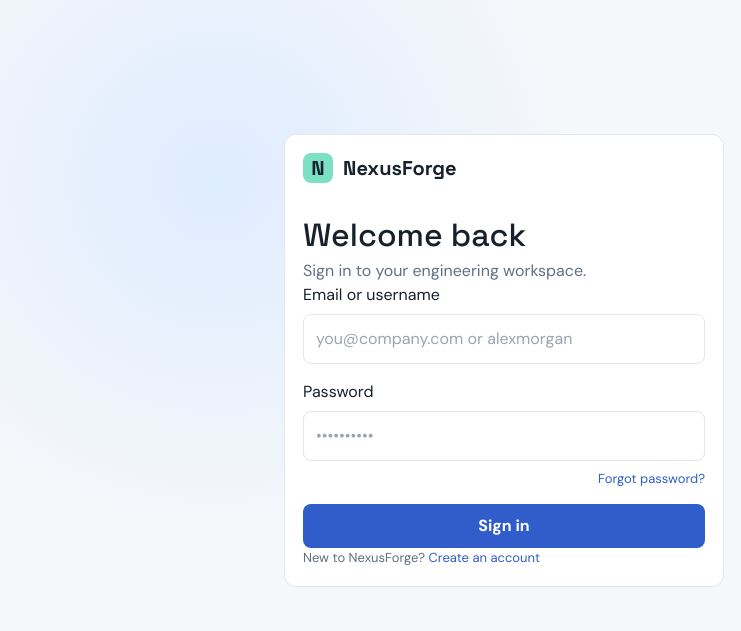
it: Login page › shows an error message on invalid credentials
Type "ab" into the field labelled "Email or username" at (504, 338), box [303,314,705,364]
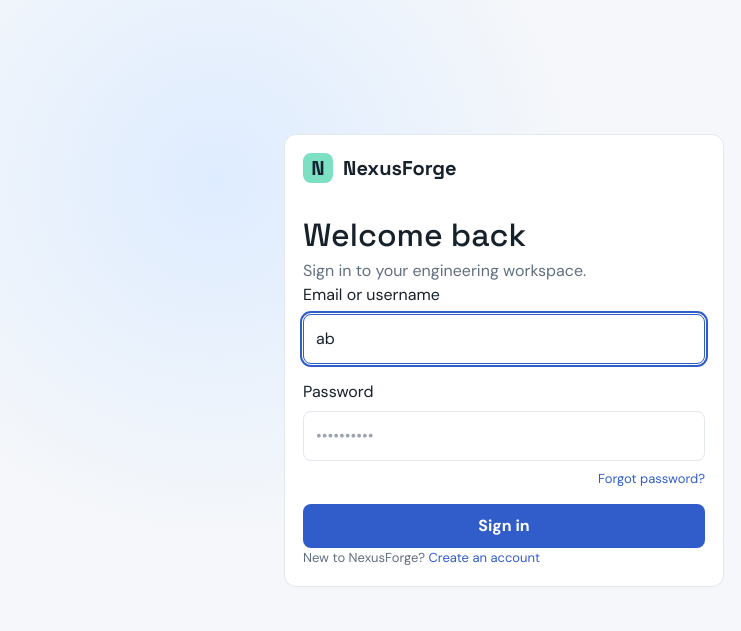
Type "wrongpass" into the password field labelled "Password" at (504, 436), box [303,410,705,460]
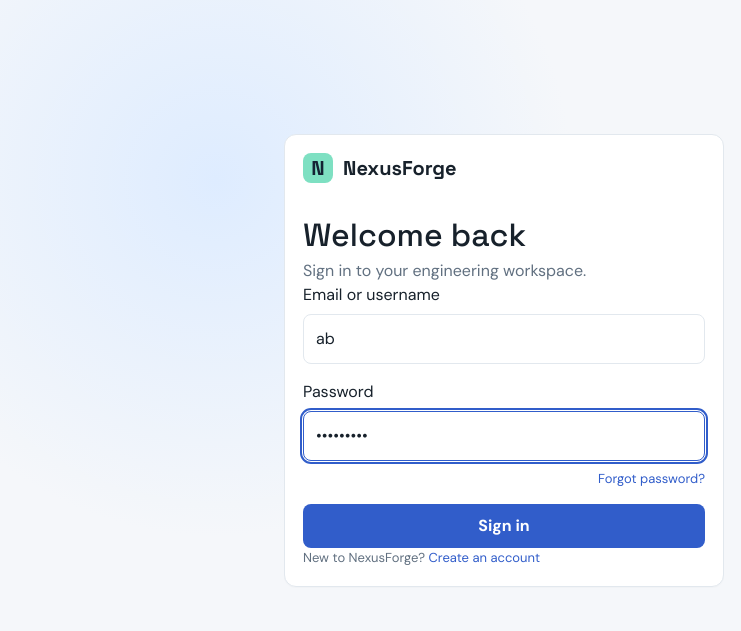
Click the button "Sign in" at (504, 526), box [303,504,705,548]
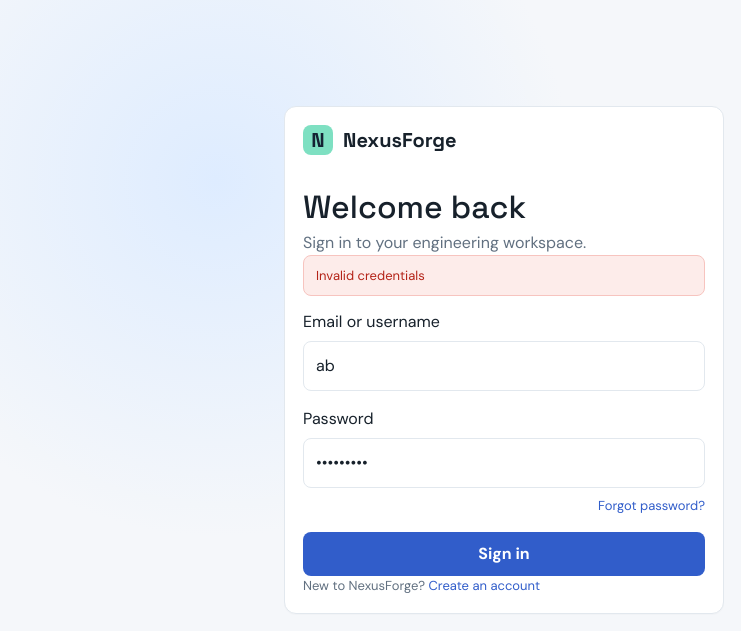
Now the message reads "Invalid credentials", box [316,267,425,284]
